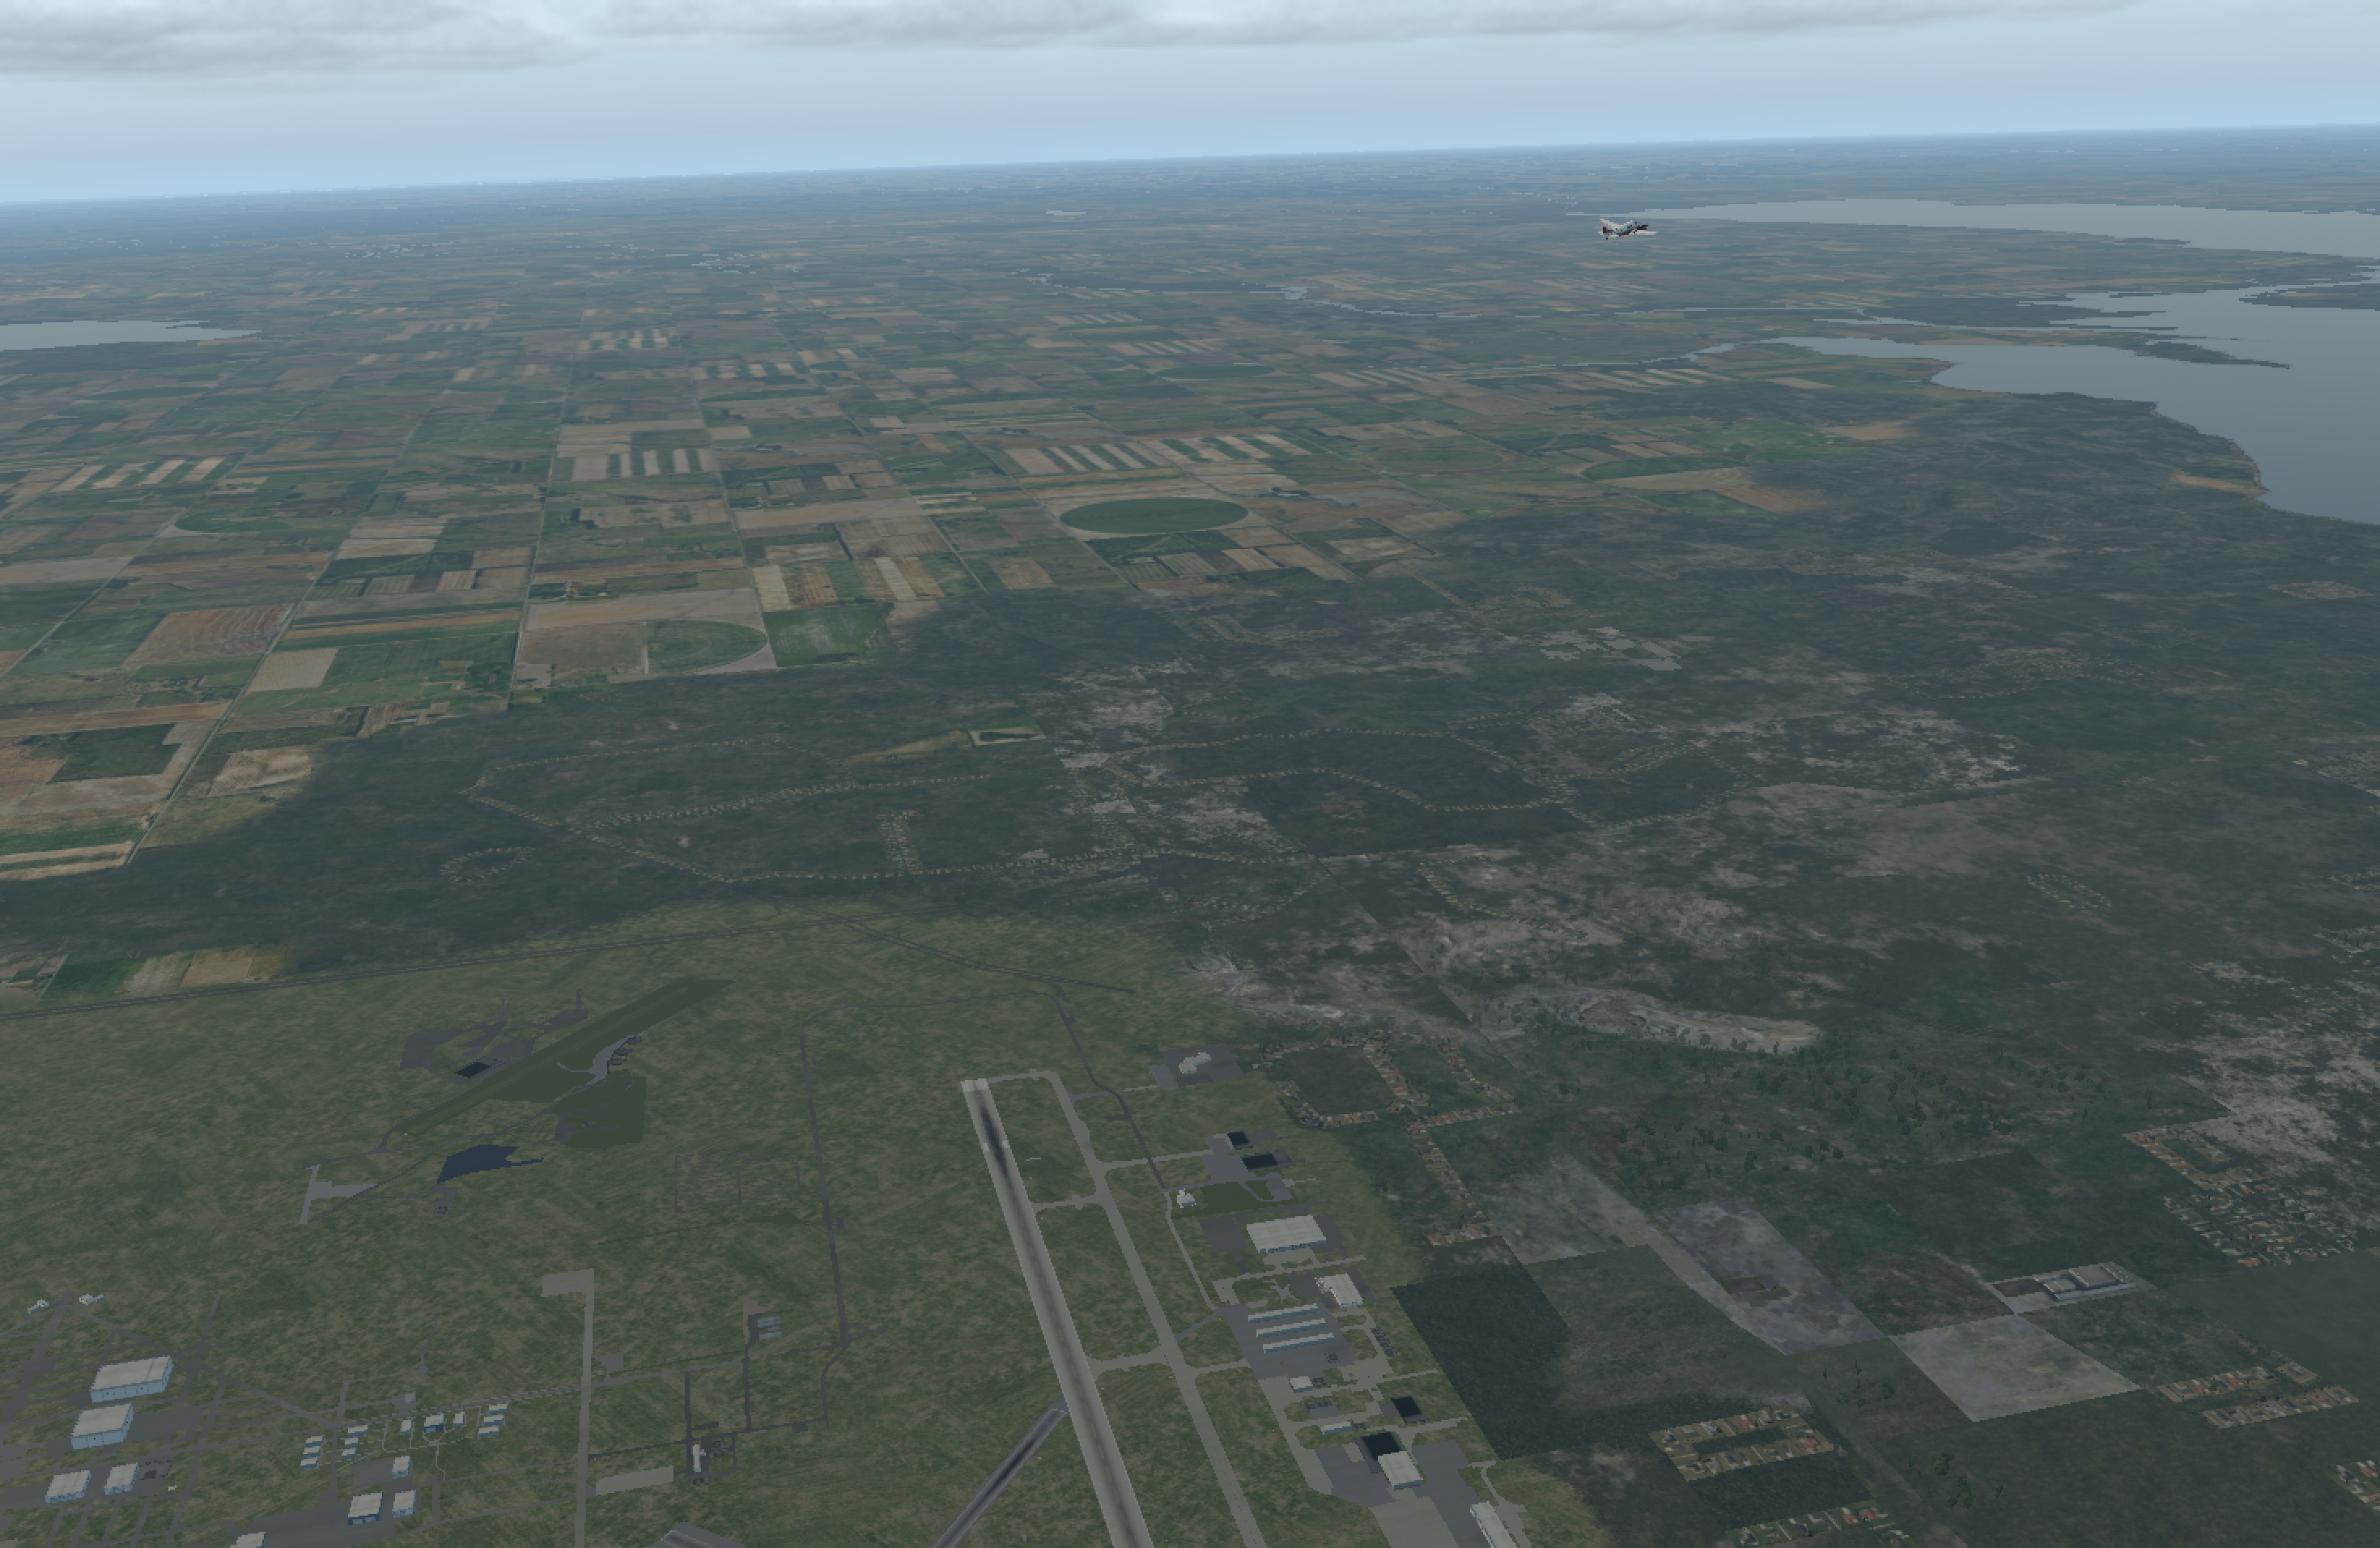aircraft: (1592, 215, 1669, 245)
